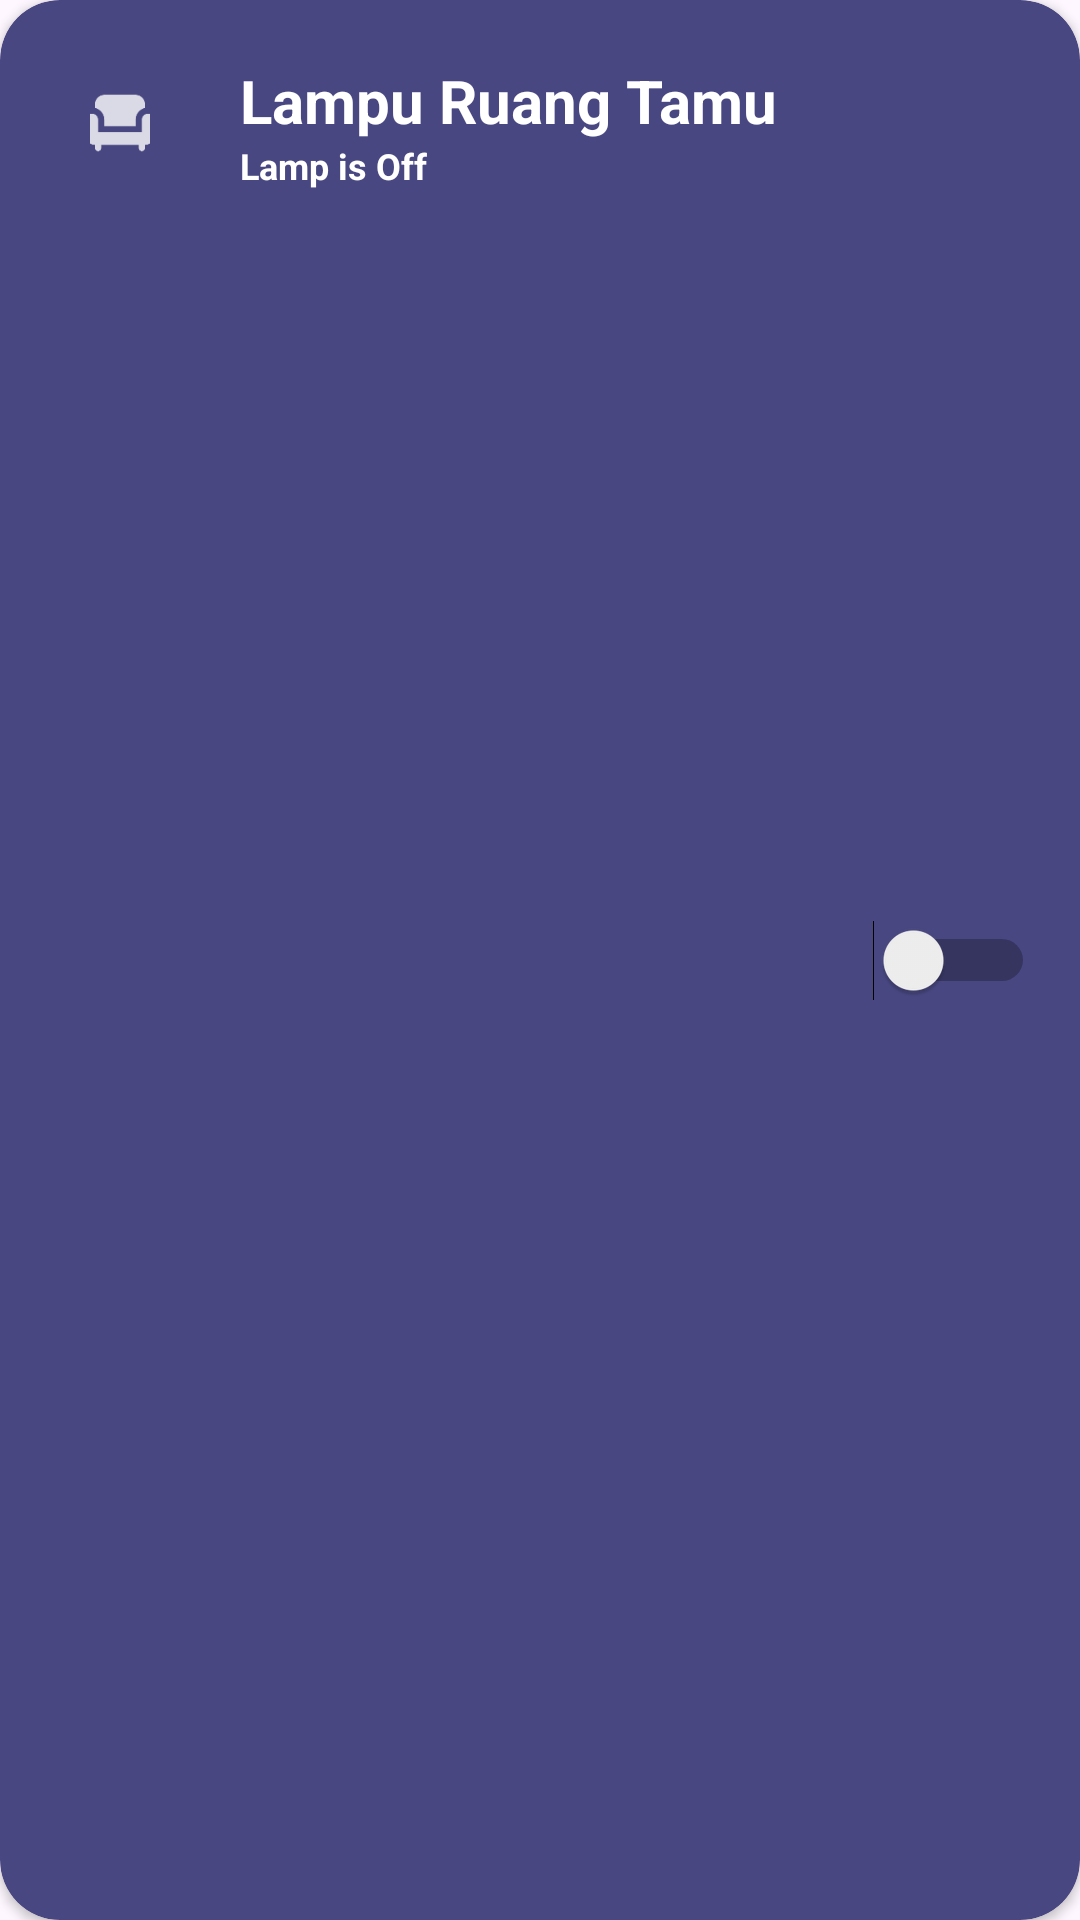

Icon click points for this 1080*1920 phone screenshot, format (x=x, y=y):
shofabaru: (x=120, y=123)
